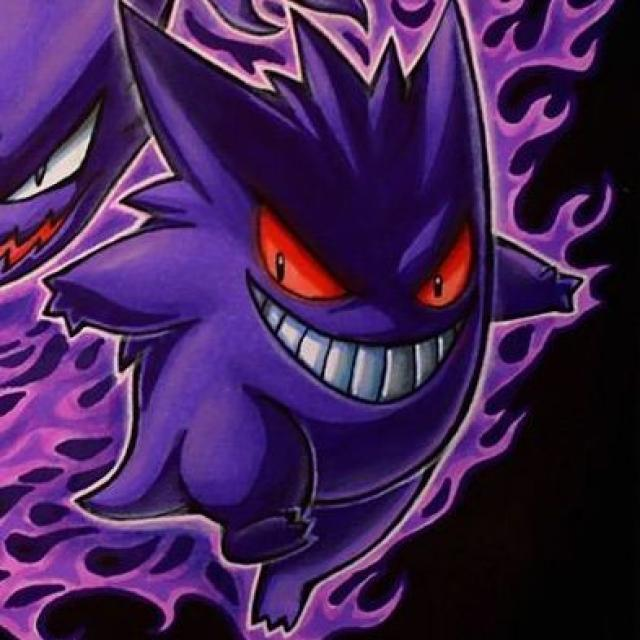Gengar: (112, 0, 496, 598)
